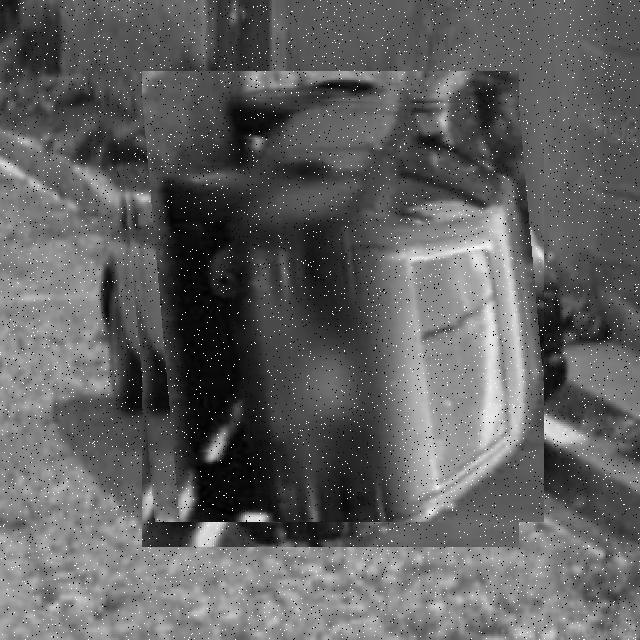car: (118, 97, 545, 523)
